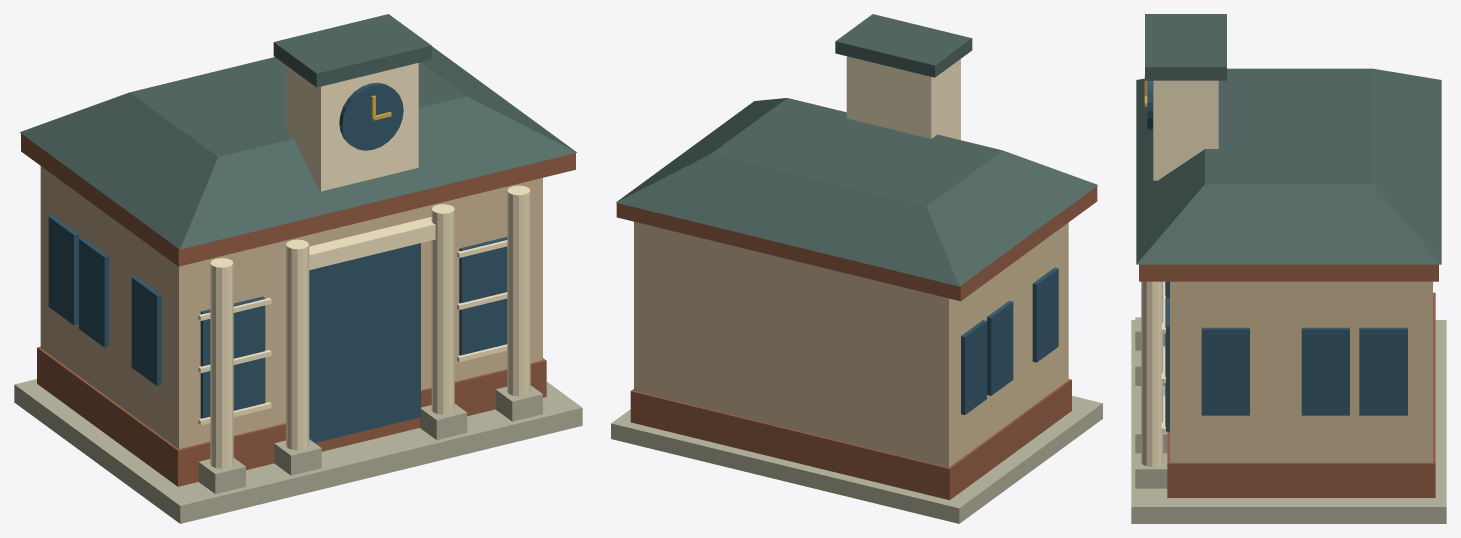
File: old-town.glb
The picture shows the model from 3 angles, left to right: view 1: azimuth 30°, elevation 25°; view 2: azimuth 150°, elevation 25°; view 3: azimuth 270°, elevation 25°; orthographic projection. The views are drawn at different scales.
Parts seen in each view (by area): view 1: old_town_exchange_mesh; view 2: old_town_exchange_mesh; view 3: old_town_exchange_mesh.
Boxes of the visible parts, x1,y1,x2,y2 form: old_town_exchange_mesh: [14, 14, 582, 523]; old_town_exchange_mesh: [611, 14, 1102, 523]; old_town_exchange_mesh: [1131, 14, 1446, 523].
Size of the model in its own units: 4.2 by 4.09 by 3.
